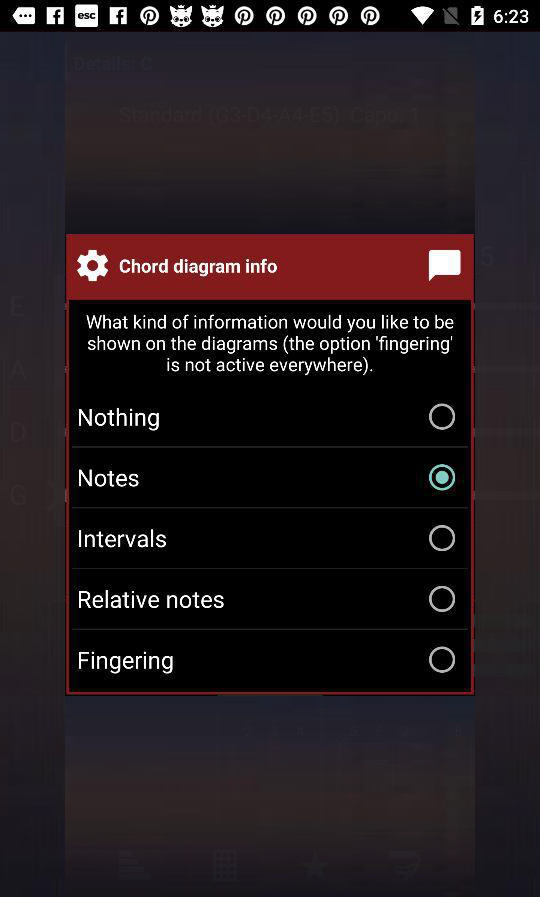CheckedTextView: (79, 646, 456, 675), (79, 404, 456, 432), (79, 586, 456, 613), (79, 464, 455, 491), (79, 525, 455, 552)
Icon: (428, 250, 461, 282), (78, 250, 110, 282)
Modal: (66, 234, 474, 695)
Text: (86, 315, 454, 377), (120, 259, 278, 278), (79, 590, 225, 609), (79, 652, 174, 675), (79, 408, 160, 432), (79, 529, 167, 548), (79, 469, 140, 488)
UpperTaskBar: (1, 1, 540, 33)
